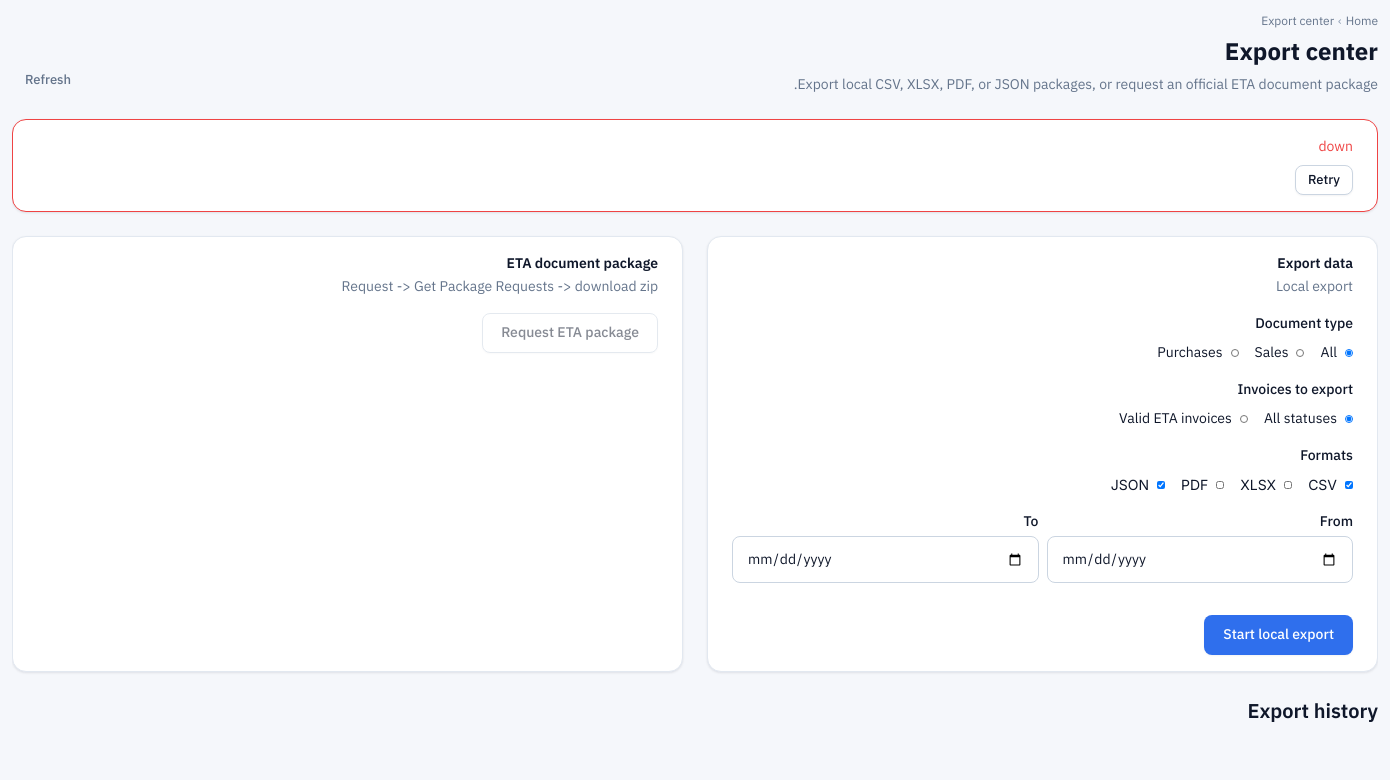
it: exports page › retries a failed jobs load
Expected: the message shows "down", [1318,136,1353,157]
Click the button "Retry". click: click(1324, 180)
box: [1295,165,1353,195]
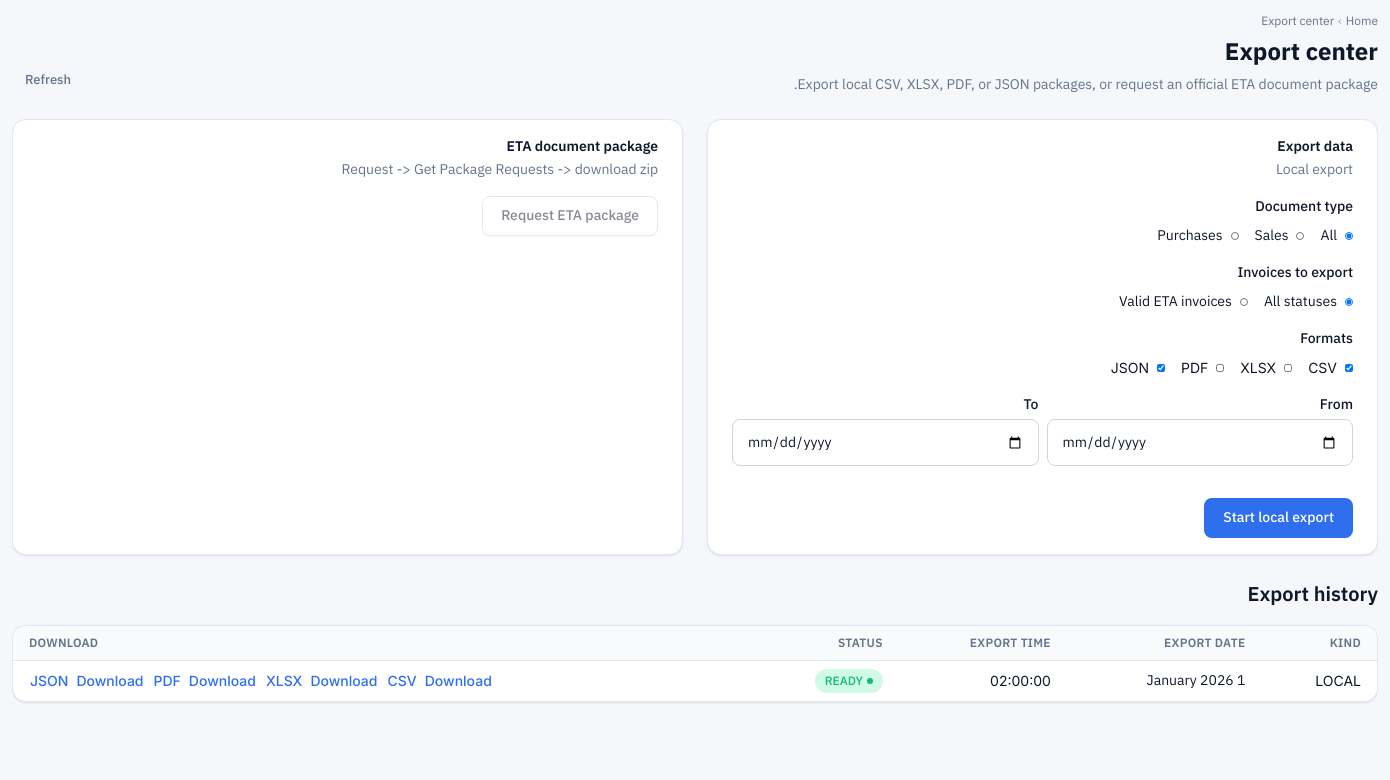
Expected: the text "LOCAL" is shown, [1315,672,1361,688]
